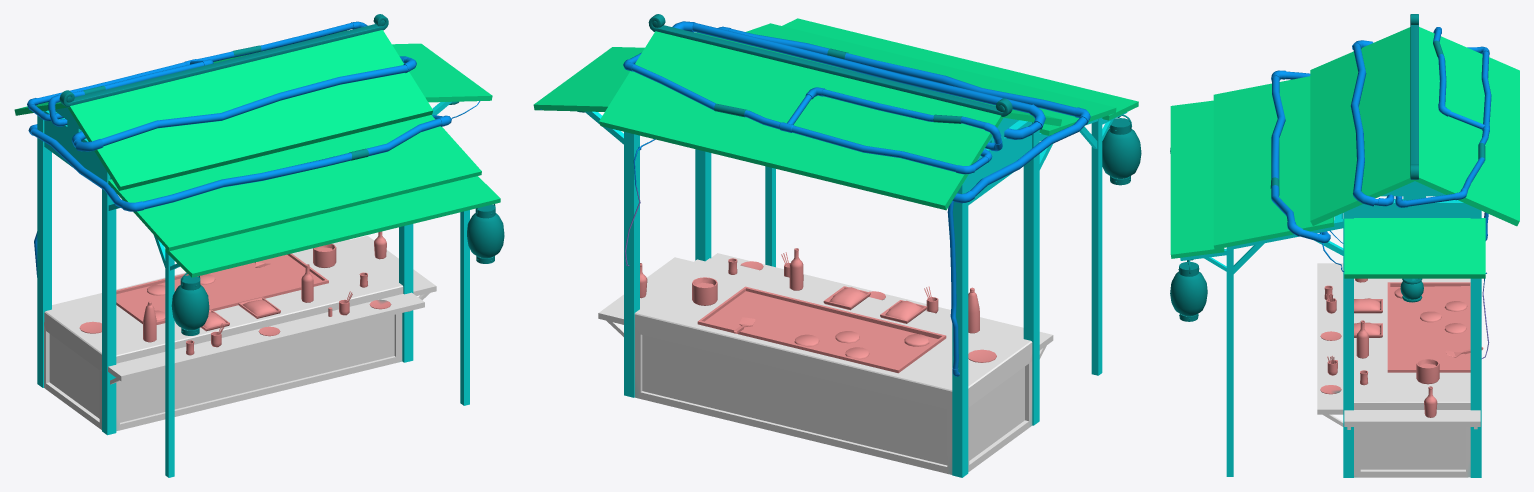
File: SM_ENV_LKNVLD_Stall_B.gltf
The picture shows the model from 3 angles, left to right: view 1: azimuth 30°, elevation 25°; view 2: azimuth 150°, elevation 25°; view 3: azimuth 270°, elevation 25°; orthographic projection. The views are drawn at different scales.
Parts seen in each view (by area): view 1: SM_ENV_LKNVLD_Stall_B; view 2: SM_ENV_LKNVLD_Stall_B; view 3: SM_ENV_LKNVLD_Stall_B.
Boxes of the visible parts, x1,y1,x2,y2 form: SM_ENV_LKNVLD_Stall_B: [14, 14, 504, 477]; SM_ENV_LKNVLD_Stall_B: [533, 14, 1141, 477]; SM_ENV_LKNVLD_Stall_B: [1170, 14, 1519, 477].
Bounding box in the file's own units: 4.93 × 3.69 × 3.73.
